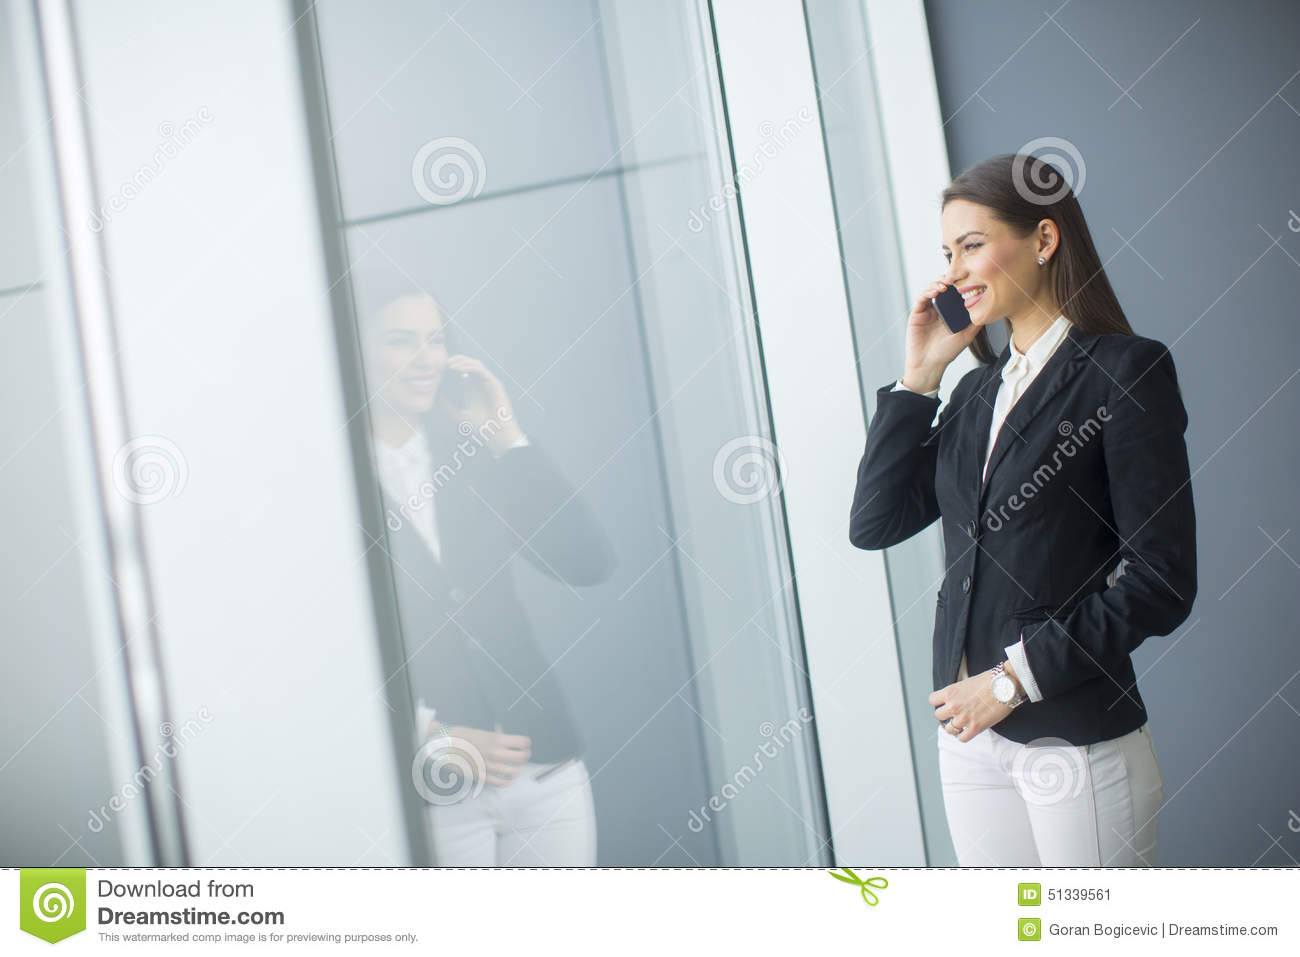talk: (900, 220, 1017, 382)
